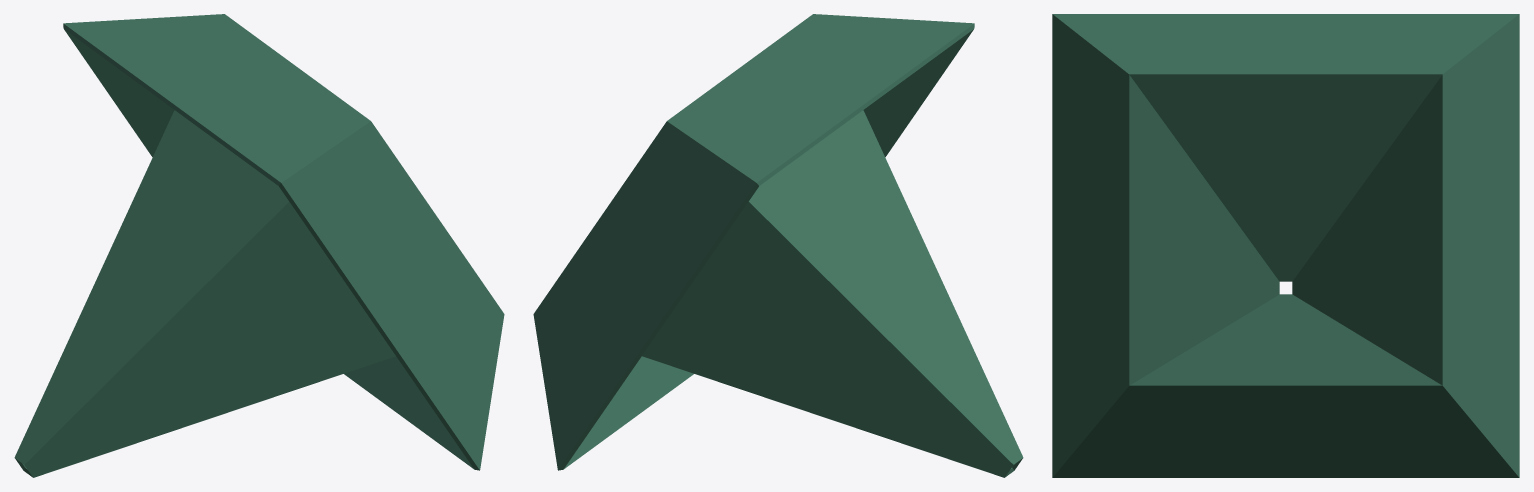
The model's file is lamp.glb.
The picture shows the model from 3 angles, left to right: view 1: azimuth 30°, elevation 25°; view 2: azimuth 150°, elevation 25°; view 3: azimuth 270°, elevation 25°; orthographic projection. The views are drawn at different scales.
Visible parts, largest first — view 1: on the corner render file; view 2: on the corner render file; view 3: on the corner render file.
Part boxes in pixels (x1,y1,x2,y2): on the corner render file: (14,14,504,477); on the corner render file: (533,14,1023,477); on the corner render file: (1052,14,1519,477).
Size of the model in its own units: 0.1963 by 0.1553 by 0.18.
